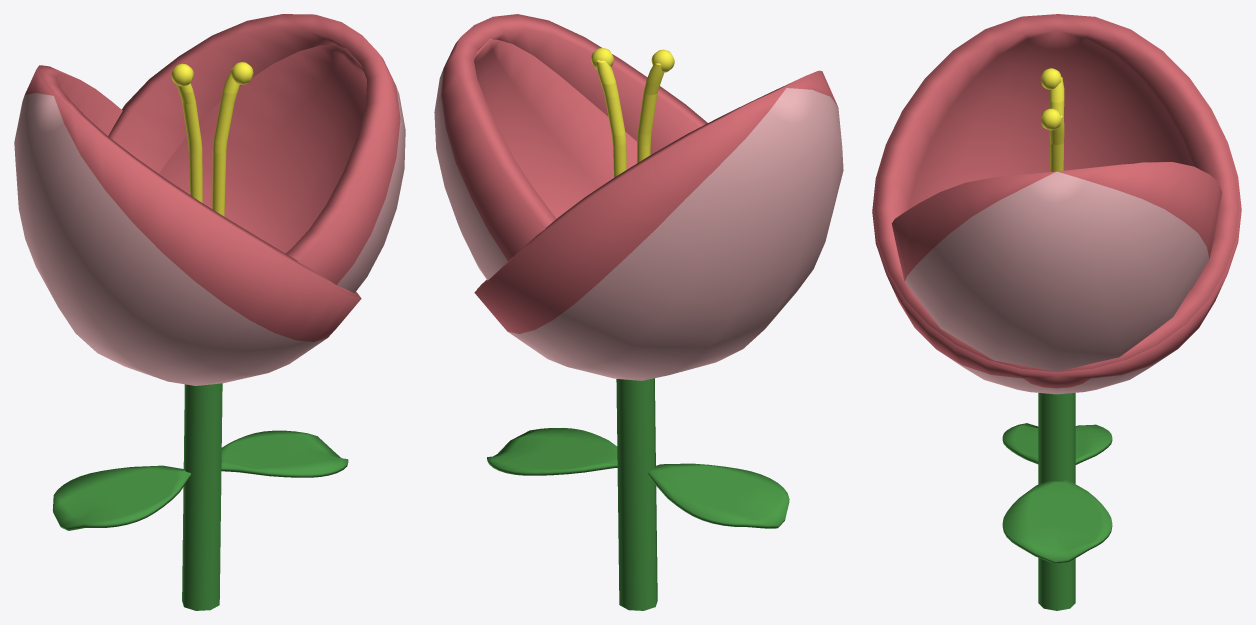
Rendered from heal_plant.fbx.
3 views of the same model, side by side, from view 1: azimuth 30°, elevation 25°; view 2: azimuth 150°, elevation 25°; view 3: azimuth 270°, elevation 25° (orthographic). The views are drawn at different scales.
Parts seen in each view (by area): view 1: Sphere.002; view 2: Sphere.002; view 3: Sphere.002.
Part boxes in pixels (x1,y1,x2,y2): Sphere.002: [14, 14, 405, 610]; Sphere.002: [434, 14, 843, 610]; Sphere.002: [872, 14, 1241, 610].
Bounding box in the file's own units: 190 × 281 × 180.
